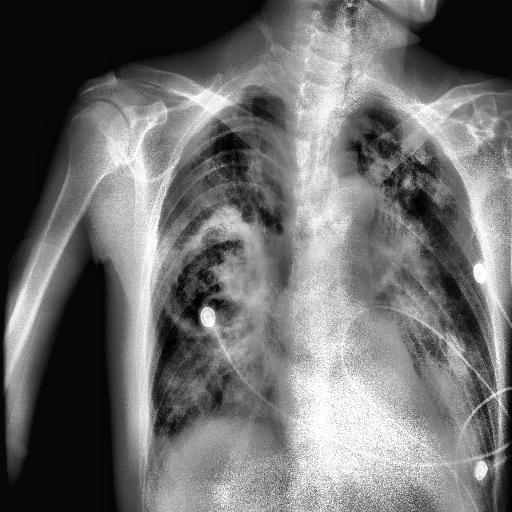0- Aortic enlargement: (322, 171, 374, 266), (319, 174, 375, 226)
11- Pleural thickening: (346, 89, 422, 119)
13- Pulmonary fibrosis: (386, 135, 450, 209)
7- Lung Opacity: (378, 146, 493, 468), (376, 152, 482, 486), (149, 205, 277, 432), (165, 324, 286, 440), (362, 115, 449, 208), (386, 135, 450, 209)
8- Nodule-Mass: (386, 135, 450, 209)
9- Other lesion: (376, 152, 482, 486), (386, 135, 450, 209)
